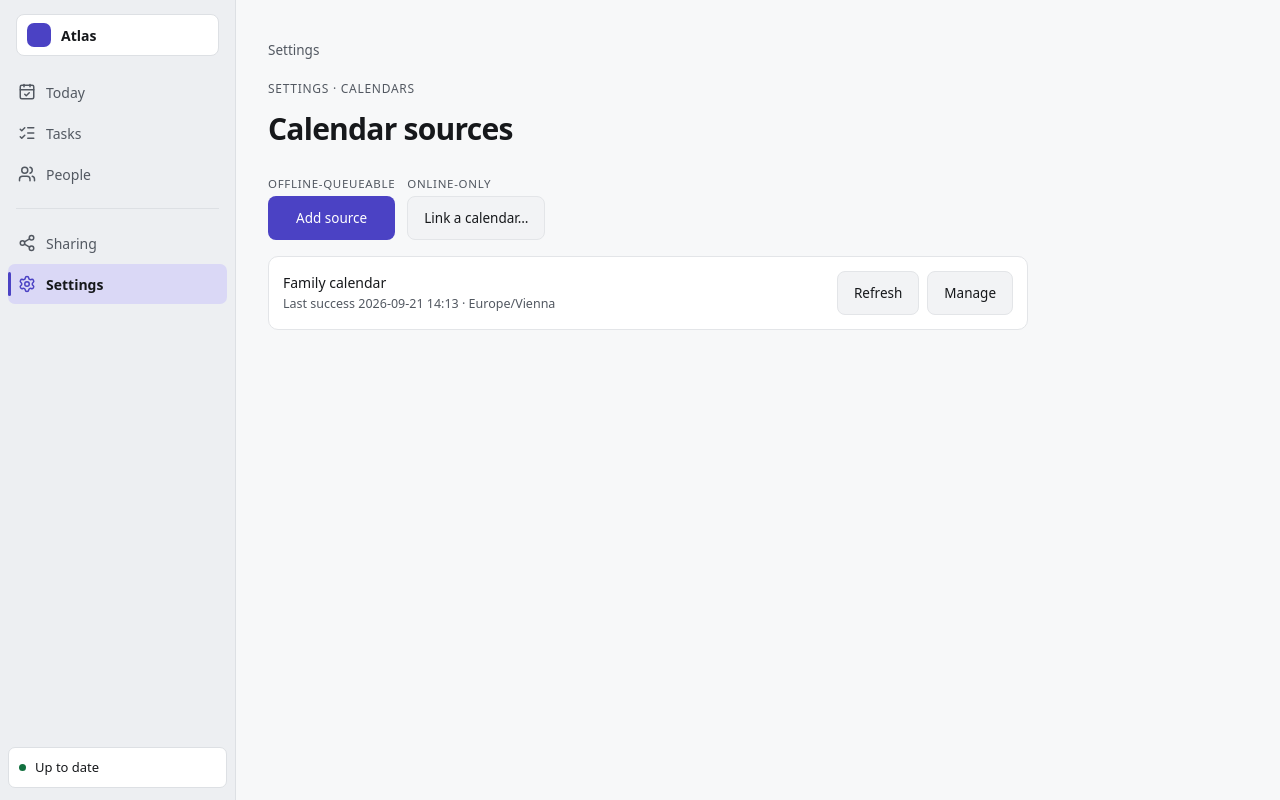
Test: Refresh (online-only, never queued) › a press sends POST /calendar-sources/{id}/refresh with a fresh key and stores nothing; success says new events follow the next sync
Expected: the heading "Calendar sources" is shown, [268,108,513,149]
Click the button with aria-label "Refresh Family calendar": (878, 293) [837,271,919,315]
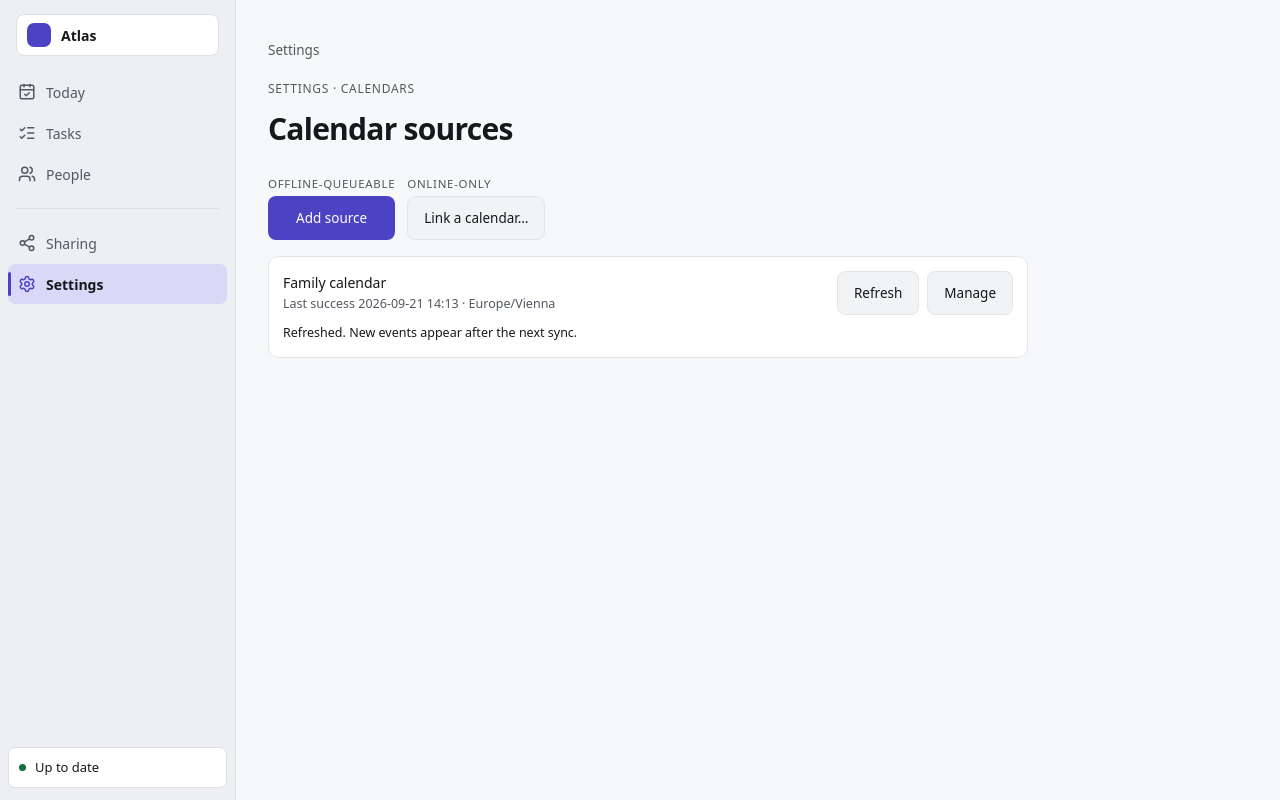
Expected: the text "Refreshed. New events appear after the next sync." is shown, [283,323,577,343]
